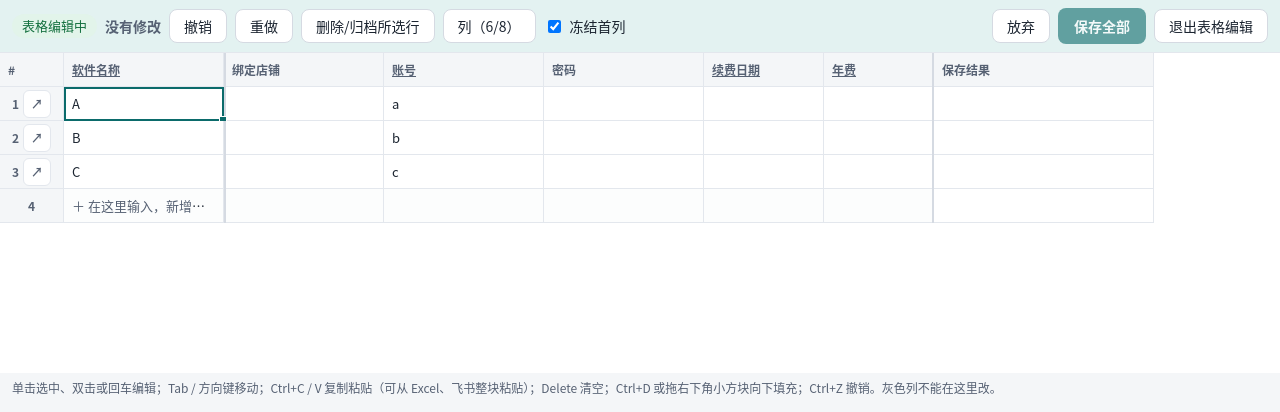
Test: 资料表格编辑网格 › 回车编辑、回车提交并下移；改过的格子高亮，顶部显示“x 处修改”
This screenshot has width=1280, height=412.
Expected: the text "没有修改" is shown, [105,16,161,36]
Press the mouse on the cell "a" at (464, 104), box [384,87,544,121]
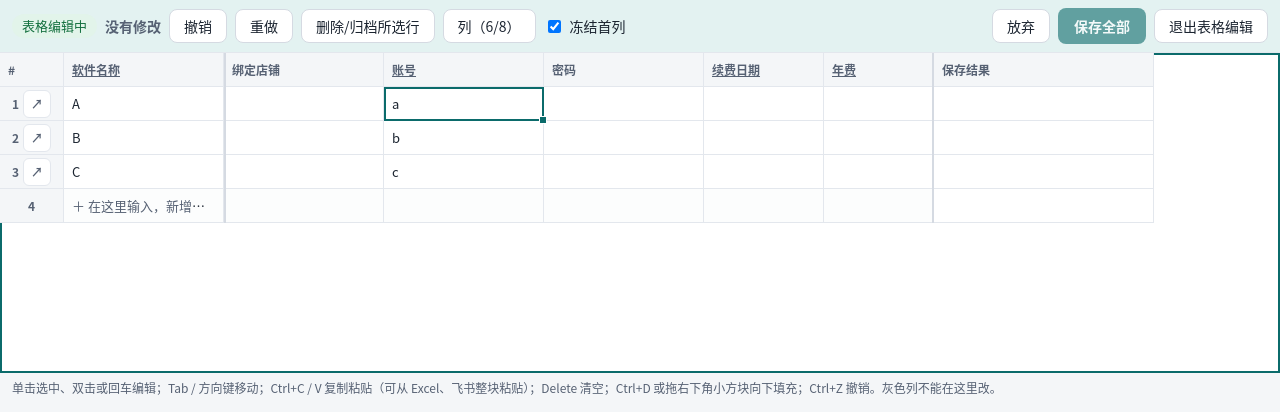
Press Enter in the element that starts with "软件名称"
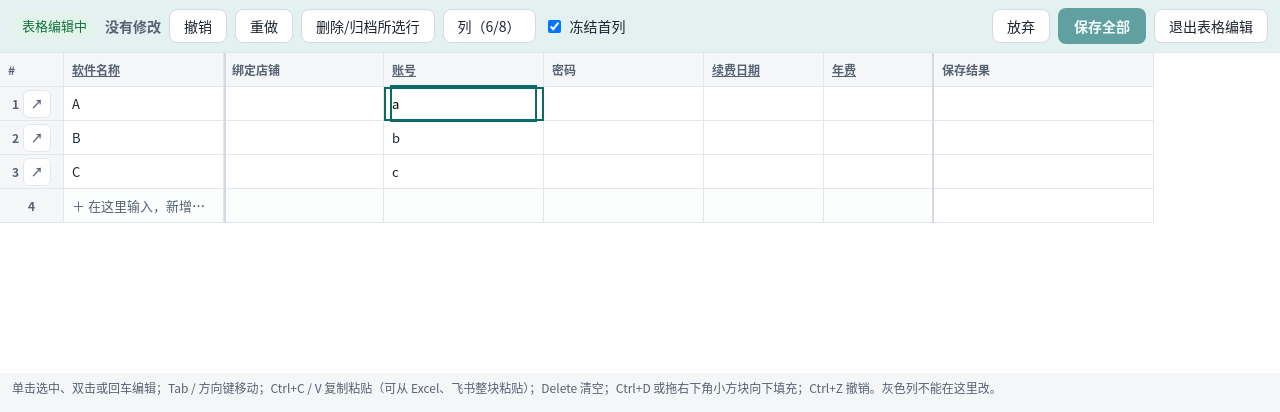
Replace the text in the field named "编辑" with "zz" at (464, 104), box [392,87,535,120]
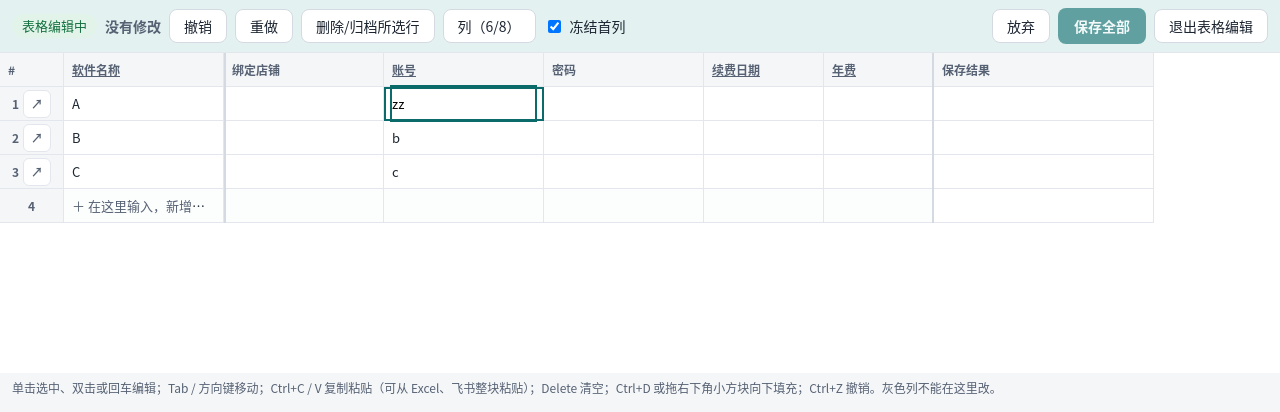
Press Enter in the field named "编辑", box [392,87,535,120]
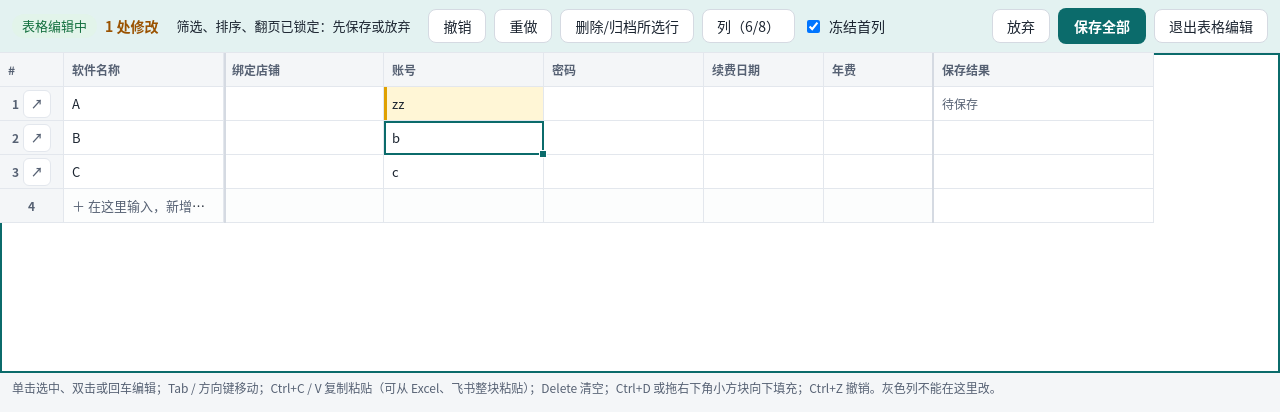
Expected: the text "1 处修改" is shown, [105,16,158,36]
Expected: the cell "zz" is shown, [384,87,544,121]
